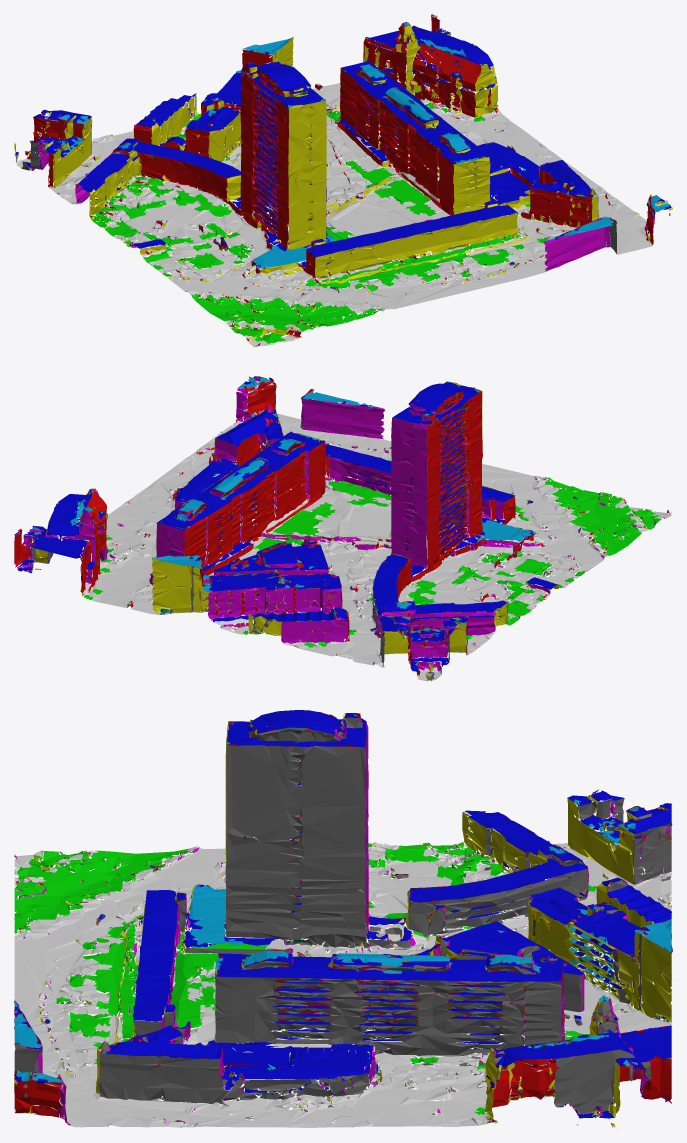
Rendered from IMU_sample_geometry.obj.
3 views of the same model, one above another, from view 1: azimuth 30°, elevation 25°; view 2: azimuth 150°, elevation 25°; view 3: azimuth 270°, elevation 25° (orthographic). The views are drawn at different scales.
Visible parts, largest first — view 1: merged_west_mesh_vegetationFiltered_merged.008; view 2: merged_west_mesh_vegetationFiltered_merged.008; view 3: merged_west_mesh_vegetationFiltered_merged.008.
Boxes of the visible parts, bbox=[...] form: merged_west_mesh_vegetationFiltered_merged.008: bbox=[14, 14, 672, 347]; merged_west_mesh_vegetationFiltered_merged.008: bbox=[14, 376, 672, 681]; merged_west_mesh_vegetationFiltered_merged.008: bbox=[14, 710, 672, 1128].
Bounding box in the file's own units: 201 × 77.05 × 201.
